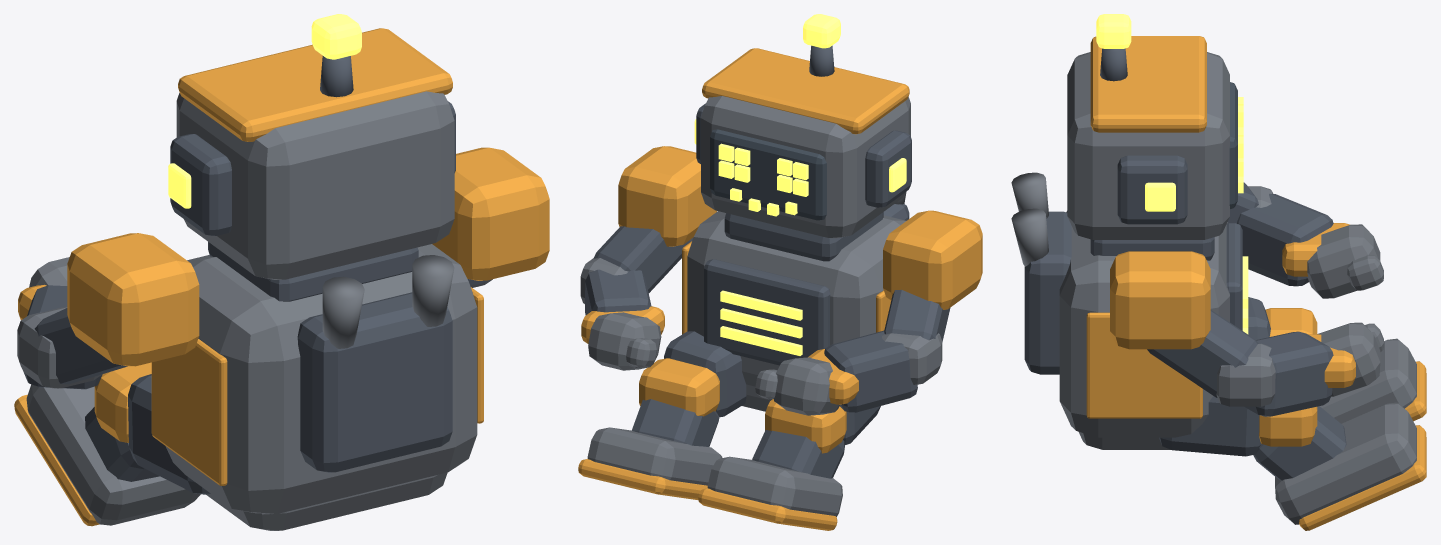
File: grokbot-b-seated.glb
3 views of the same model, side by side, from view 1: azimuth 30°, elevation 25°; view 2: azimuth 150°, elevation 25°; view 3: azimuth 270°, elevation 25° (orthographic). The views are drawn at different scales.
Visible parts, largest first — view 1: head_box, body, backpack, head_stripe, shoulder_l, shoulder_r, foot_l, stripe_l, ear_l, hip, collar, thigh_l (+13 smaller); view 2: head_box, body, head_stripe, chest_panel, shoulder_l, shoulder_r, visor, foot_l, foot_r, forearm_l, knee_r, collar (+27 smaller); view 3: head_box, head_stripe, body, shoulder_r, foot_r, stripe_r, backpack, forearm_l, forearm_r, ear_r, upperarm_r, foot_l (+24 smaller).
Boxes of the visible parts, left/top/right/bottom form: head_box: left=176, top=91, right=454, bottom=279; body: left=165, top=244, right=477, bottom=513; backpack: left=297, top=292, right=452, bottom=472; head_stripe: left=178, top=28, right=452, bottom=141; shoulder_l: left=67, top=233, right=199, bottom=366; shoulder_r: left=432, top=147, right=549, bottom=280; foot_l: left=26, top=384, right=200, bottom=525; stripe_l: left=151, top=339, right=227, bottom=485; ear_l: left=170, top=134, right=231, bottom=235; hip: left=206, top=472, right=447, bottom=530; collar: left=208, top=242, right=418, bottom=301; thigh_l: left=128, top=374, right=210, bottom=494; head_box: left=701, top=96, right=910, bottom=238; body: left=687, top=211, right=905, bottom=386; head_stripe: left=702, top=48, right=909, bottom=134; chest_panel: left=704, top=259, right=830, bottom=365; shoulder_l: left=883, top=210, right=982, bottom=309; shoulder_r: left=618, top=146, right=716, bottom=246; visor: left=710, top=129, right=826, bottom=220; foot_l: left=707, top=456, right=842, bottom=516; foot_r: left=587, top=427, right=722, bottom=485; forearm_l: left=824, top=330, right=917, bottom=412; knee_r: left=639, top=358, right=719, bottom=416; collar: left=724, top=212, right=883, bottom=261; head_box: left=1067, top=52, right=1229, bottom=239; head_stripe: left=1090, top=36, right=1206, bottom=132; body: left=1059, top=211, right=1229, bottom=437; shoulder_r: left=1110, top=251, right=1210, bottom=349; foot_r: left=1275, top=402, right=1416, bottom=524; stripe_r: left=1086, top=312, right=1202, bottom=418; backpack: left=1024, top=211, right=1071, bottom=374; forearm_l: left=1237, top=194, right=1333, bottom=286; forearm_r: left=1244, top=331, right=1333, bottom=416; ear_r: left=1117, top=155, right=1187, bottom=224; upperarm_r: left=1147, top=310, right=1258, bottom=397; foot_l: left=1320, top=338, right=1416, bottom=423.
Size of the model in its own units: 1.12 by 1.31 by 1.07.
